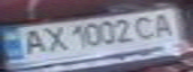0: (81, 20, 103, 48), (100, 18, 118, 47)
1: (66, 21, 87, 50)
2: (112, 16, 136, 44)
A: (15, 27, 51, 57), (145, 10, 181, 39)
C: (130, 12, 163, 41)
X: (36, 25, 69, 55)
